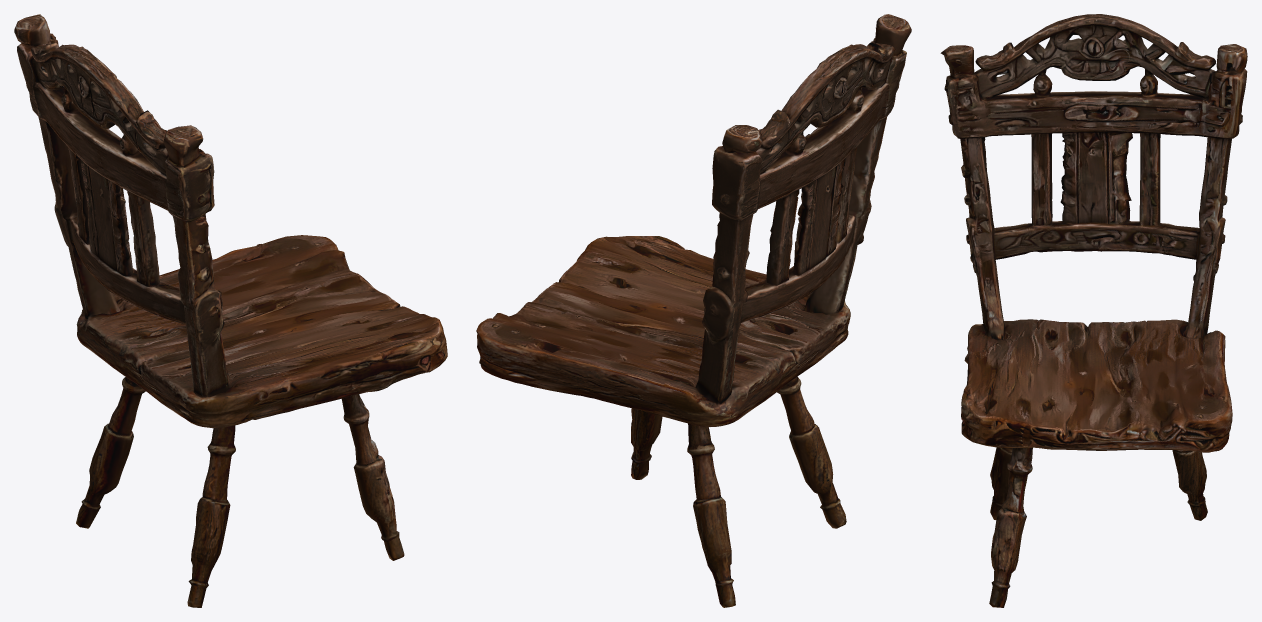
3 views of the same model, side by side, from view 1: azimuth 30°, elevation 25°; view 2: azimuth 150°, elevation 25°; view 3: azimuth 270°, elevation 25° (orthographic). The views are drawn at different scales.
Visible parts, largest first — view 1: tripo_node_366ed6ee-e411-460b-a866-fb6e08c7febc; view 2: tripo_node_366ed6ee-e411-460b-a866-fb6e08c7febc; view 3: tripo_node_366ed6ee-e411-460b-a866-fb6e08c7febc.
Boxes of the visible parts, left/top/right/bottom form: tripo_node_366ed6ee-e411-460b-a866-fb6e08c7febc: left=14, top=14, right=447, bottom=607; tripo_node_366ed6ee-e411-460b-a866-fb6e08c7febc: left=476, top=14, right=911, bottom=607; tripo_node_366ed6ee-e411-460b-a866-fb6e08c7febc: left=940, top=14, right=1247, bottom=607.
Bounding box in the file's own units: 0.6185 × 1 × 0.5804.
Materials: 1 (1 with a texture image).
